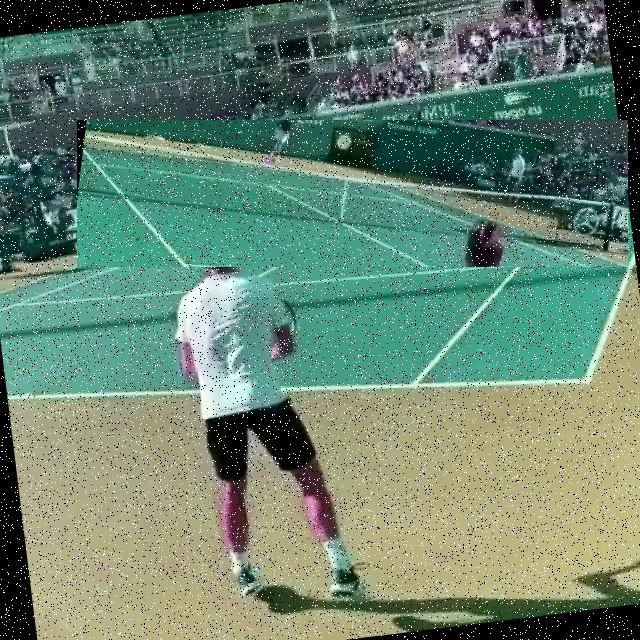court: (0, 158, 640, 485)
net: (77, 120, 628, 267)
player: (148, 200, 370, 622)
